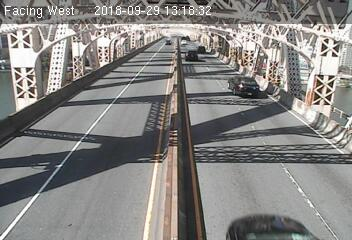car: (220, 213, 321, 240), (223, 74, 272, 101), (183, 48, 197, 63)
